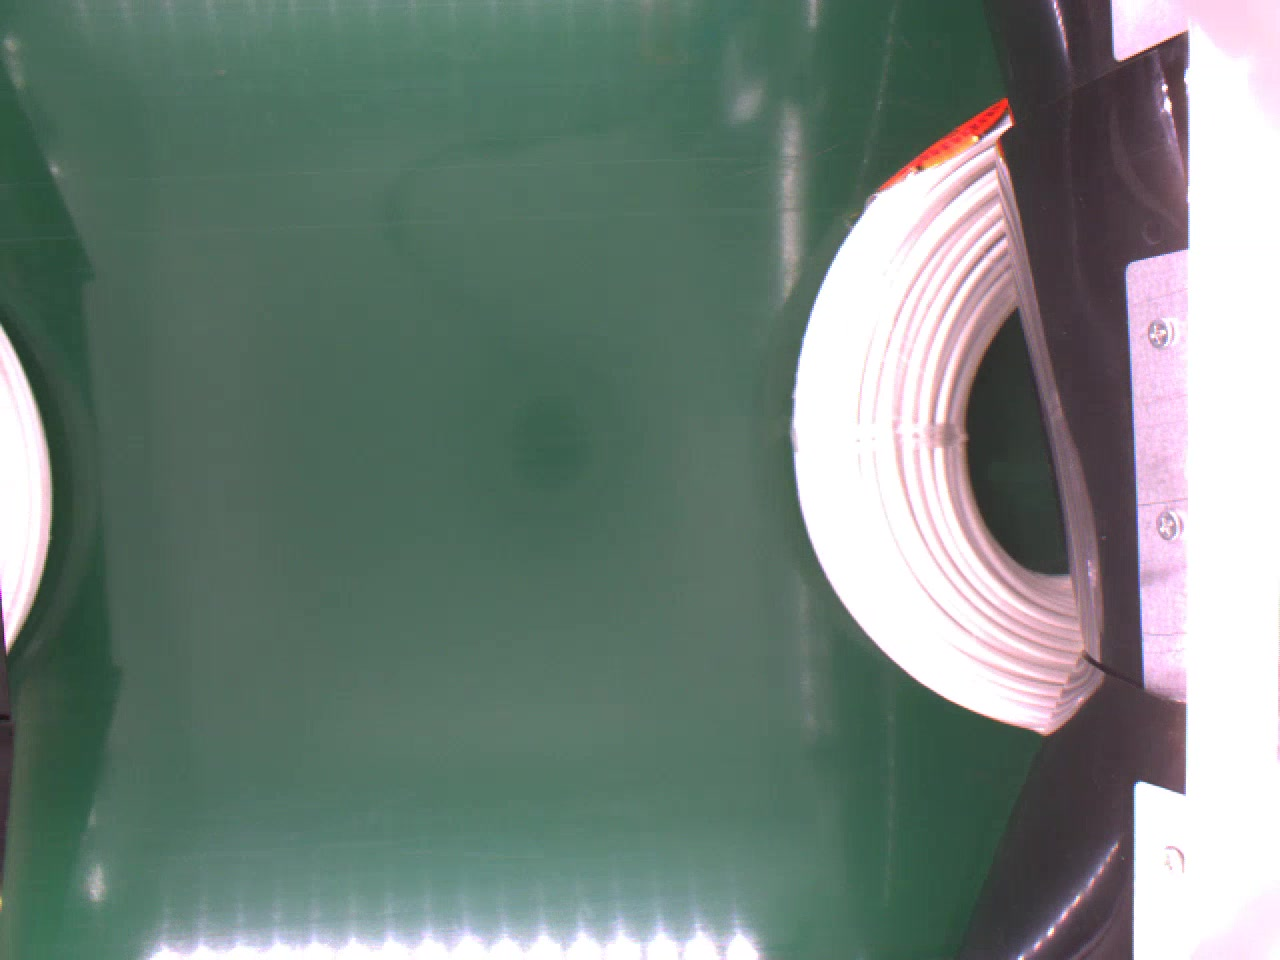white: (787, 96, 1079, 738)
